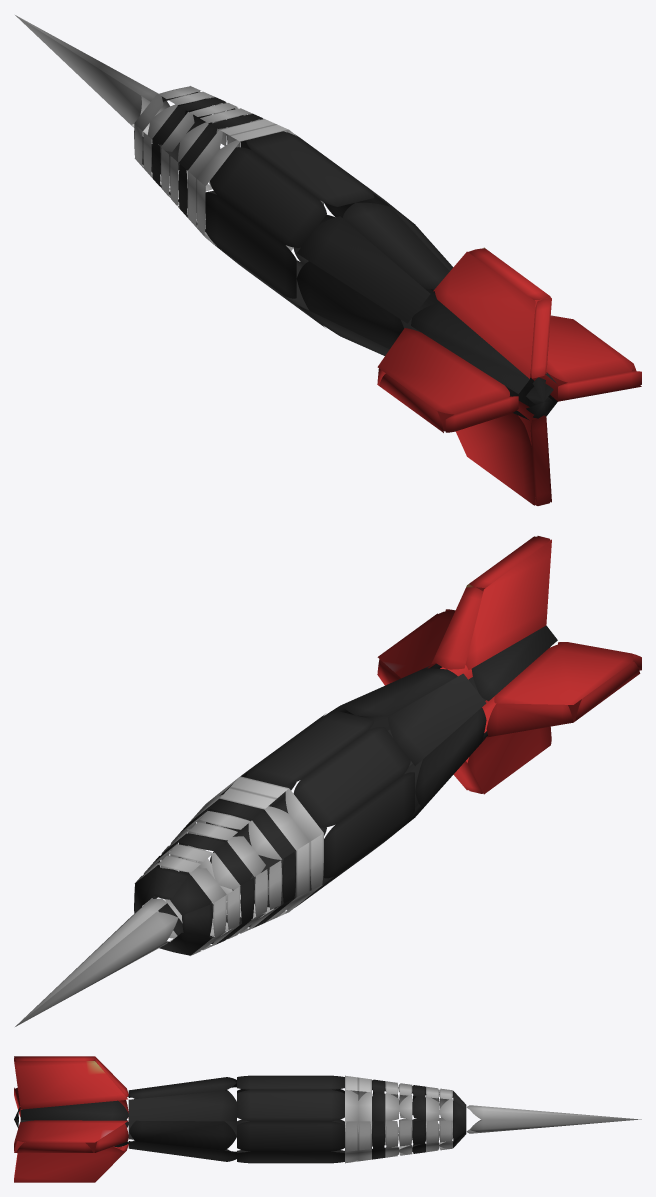
File: dart.obj
3 renders of one model, top to bottom at view 1: azimuth 30°, elevation 25°; view 2: azimuth 150°, elevation 25°; view 3: azimuth 270°, elevation 25°, orthographic. The views are drawn at different scales.
Visible parts, largest first — view 1: cylinder; view 2: cylinder; view 3: cylinder.
Boxes of the visible parts, x1,y1,x2,y2 form: cylinder: (15, 15, 641, 505); cylinder: (15, 536, 641, 1026); cylinder: (14, 1056, 641, 1182).
Size of the model in its own units: 0.0621 by 0.0621 by 0.2906.
1 material, 1 textured.
